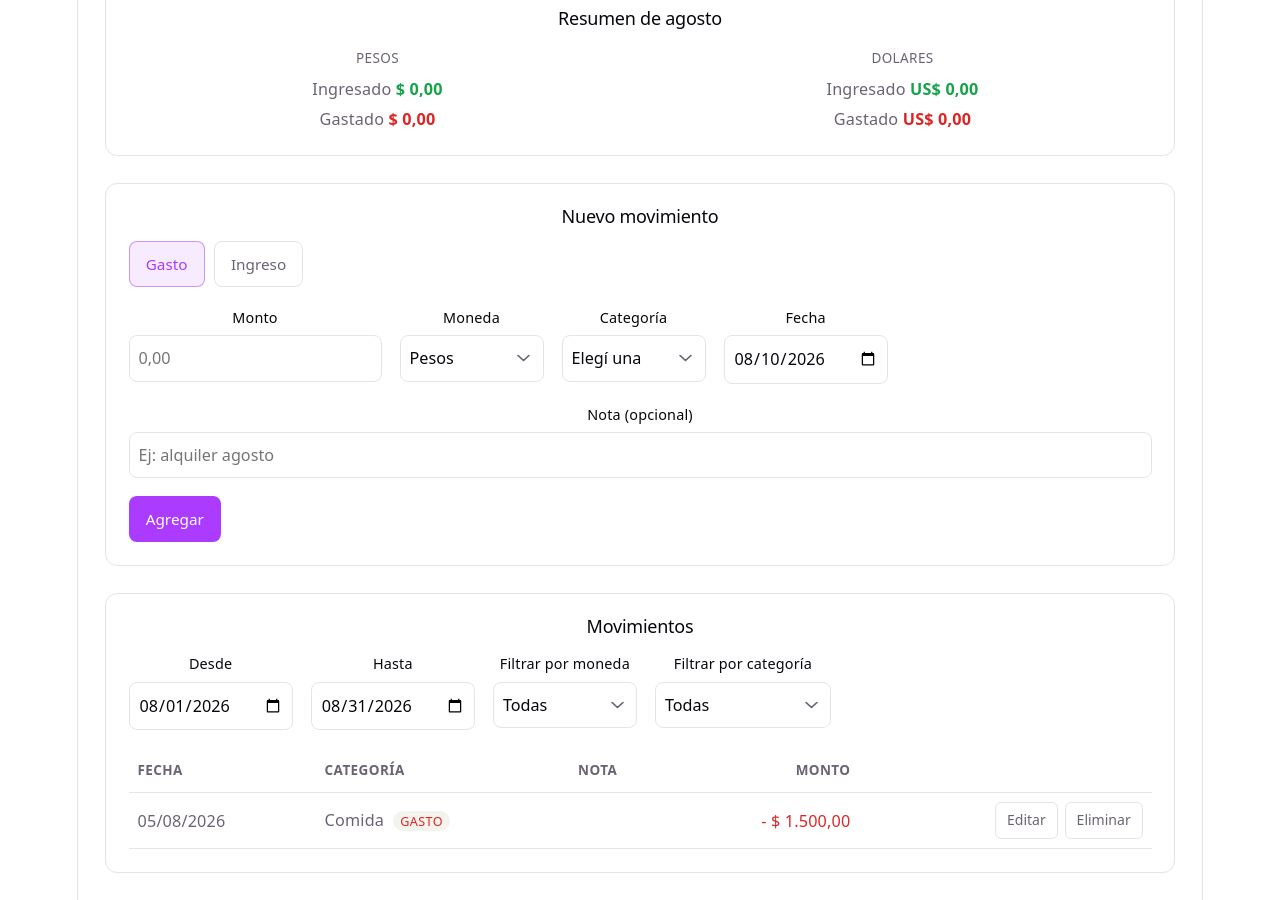
Test: edición en un modal sobre la pantalla › editar abre el formulario en un diálogo, no en la pantalla de fondo
(page scrolled)
expect the heading "Nuevo movimiento" is shown: met, box [562,204,718,228]
Click the button "Editar" at (1026, 820), box [995,802,1058,839]
(page scrolled)
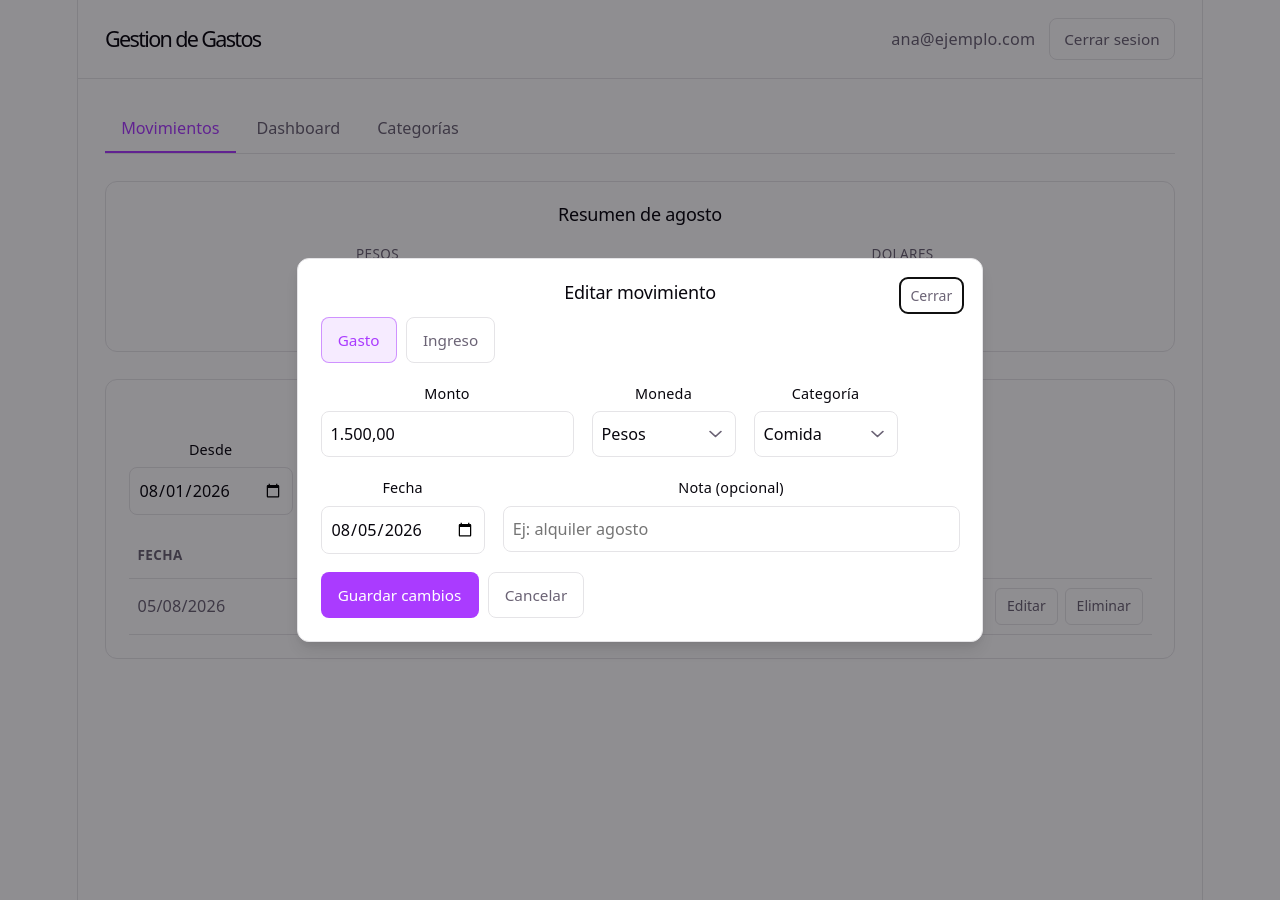
expect the number of fields labelled "Monto" is 1: met, box [320,411,574,457]
expect the heading "Editar movimiento" is shown: met, box [564,280,716,304]
expect the heading "Nuevo movimiento" is gone: met
